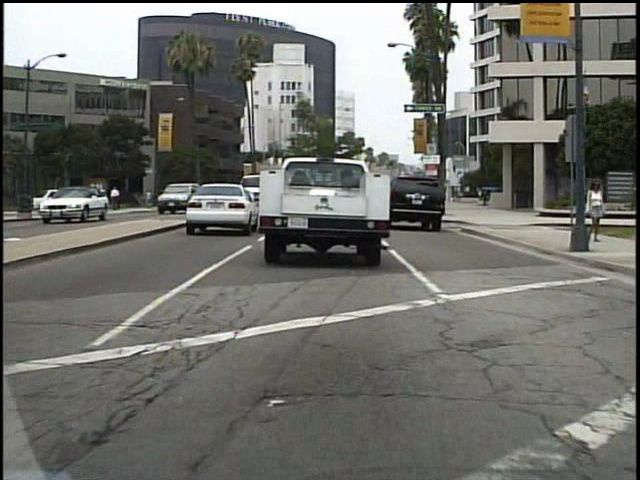person: (583, 174, 606, 246), (109, 183, 124, 216), (103, 188, 118, 219), (146, 187, 155, 208)
